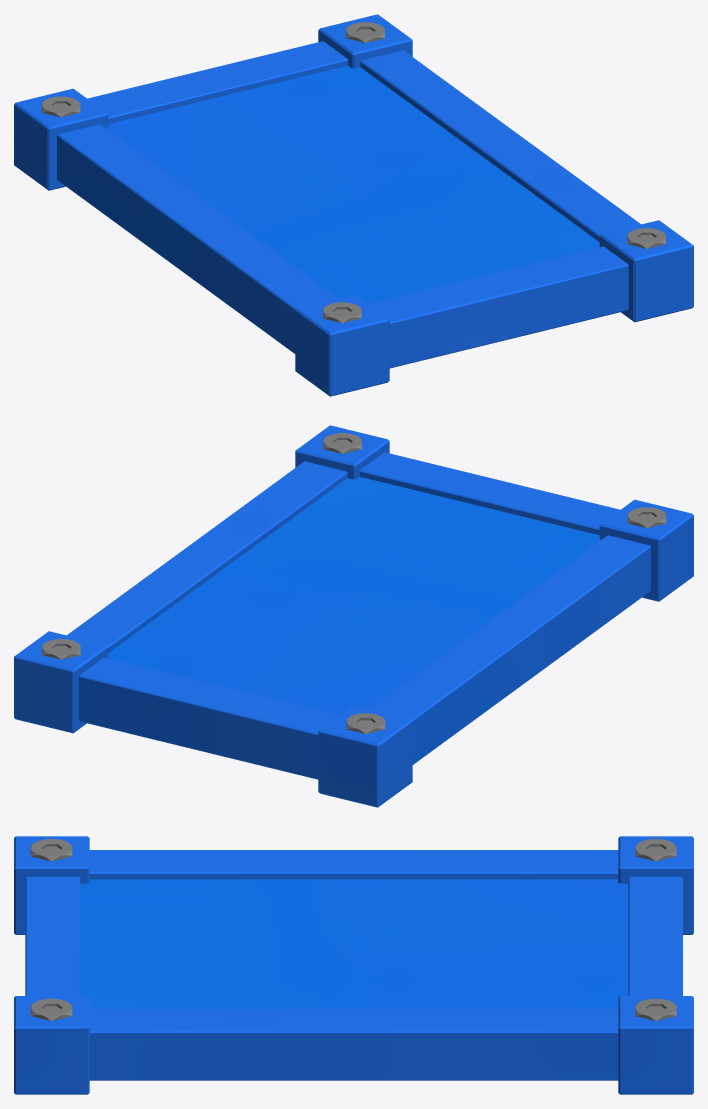
The model's file is FramedRectanglePlatformBlue.fbx.
The picture shows the model from 3 angles, top to bottom: view 1: azimuth 30°, elevation 25°; view 2: azimuth 150°, elevation 25°; view 3: azimuth 270°, elevation 25°; orthographic projection. The views are drawn at different scales.
Parts seen in each view (by area): view 1: Cube, Cube.001; view 2: Cube, Cube.001; view 3: Cube, Cube.001.
Part boxes in pixels (left/top/right/bottom): Cube: left=14, top=14, right=693, bottom=396; Cube.001: left=41, top=22, right=665, bottom=323; Cube: left=14, top=425, right=693, bottom=807; Cube.001: left=42, top=433, right=666, bottom=733; Cube: left=14, top=836, right=693, bottom=1094; Cube.001: left=30, top=839, right=676, bottom=1020.
Bounding box in the file's own units: 6 × 1.05 × 9.
